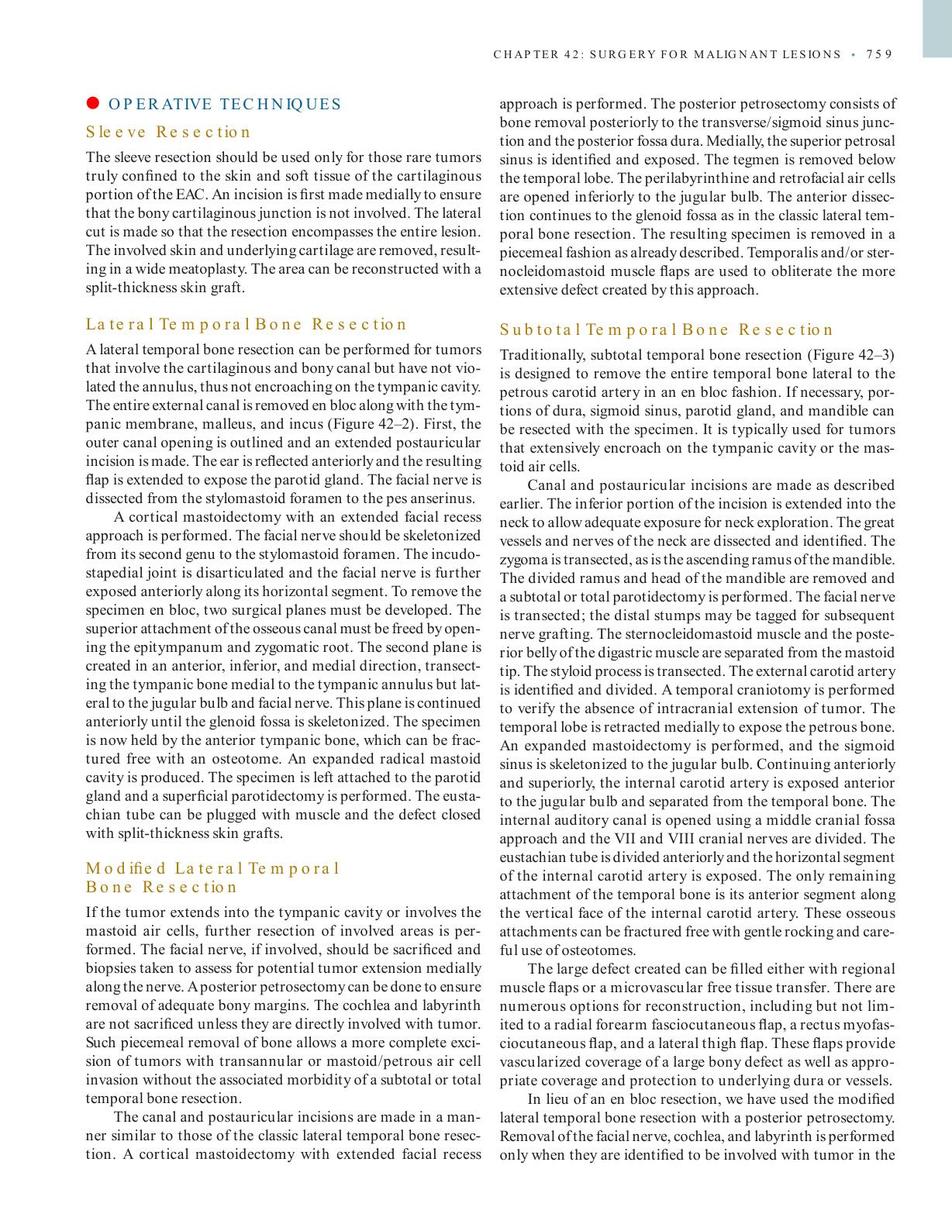header: (493, 47, 842, 60)
section-heading: (107, 96, 341, 112)
sub-section-heading: (84, 859, 341, 894), (84, 314, 407, 334), (499, 320, 833, 339), (86, 123, 251, 139)
text: (498, 346, 898, 1164), (84, 341, 482, 843), (84, 904, 483, 1164), (498, 96, 897, 300), (83, 148, 484, 297)
